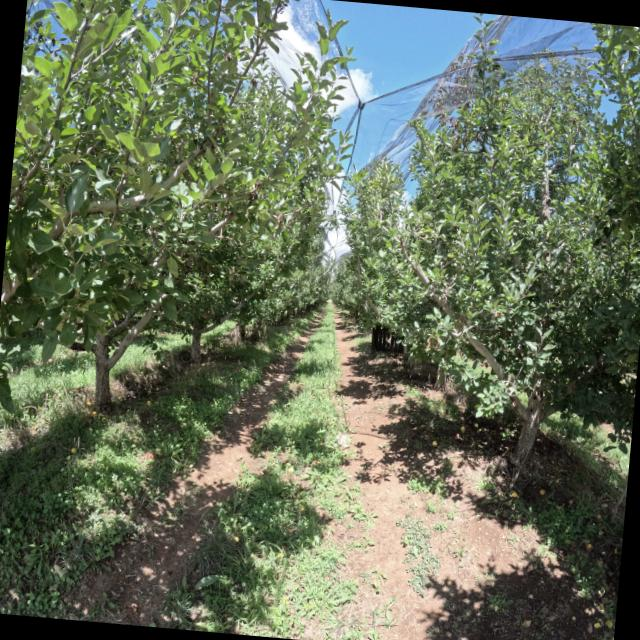-FireBlight-: (425, 336, 440, 352)
